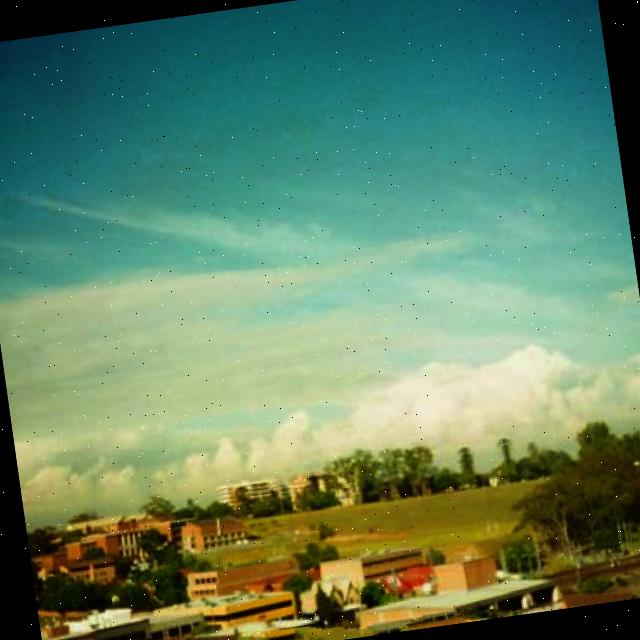Sc: (1, 45, 640, 497)
